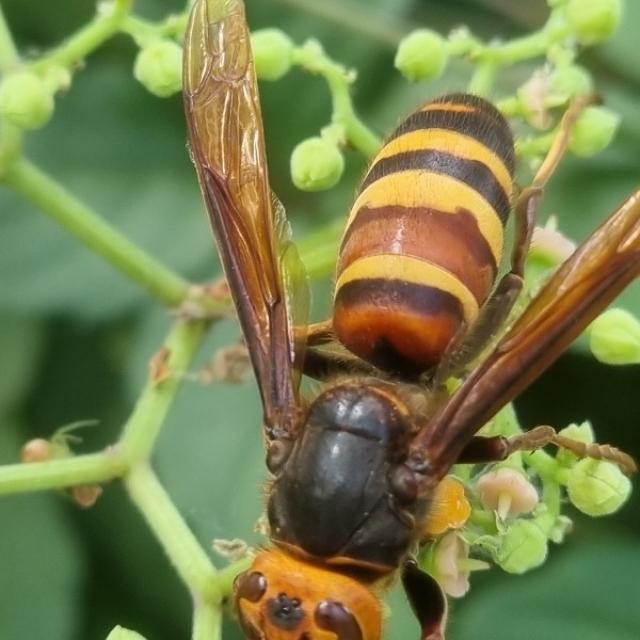Wasp: (158, 0, 628, 640)
